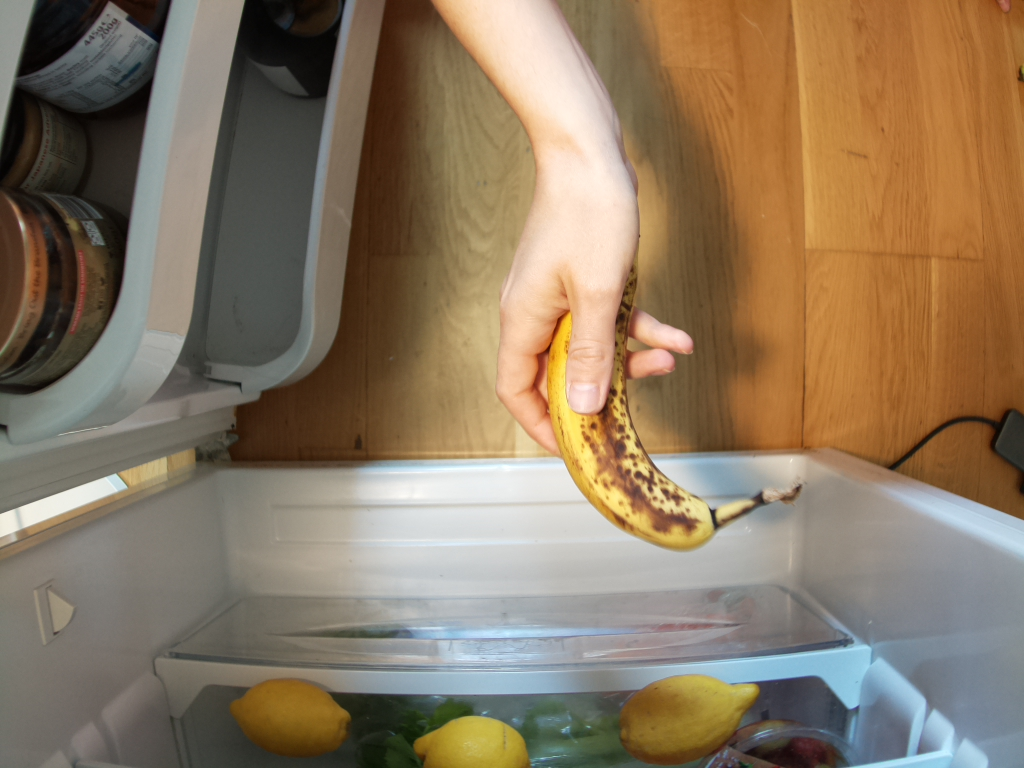banana-overripe: (559, 312, 803, 554)
